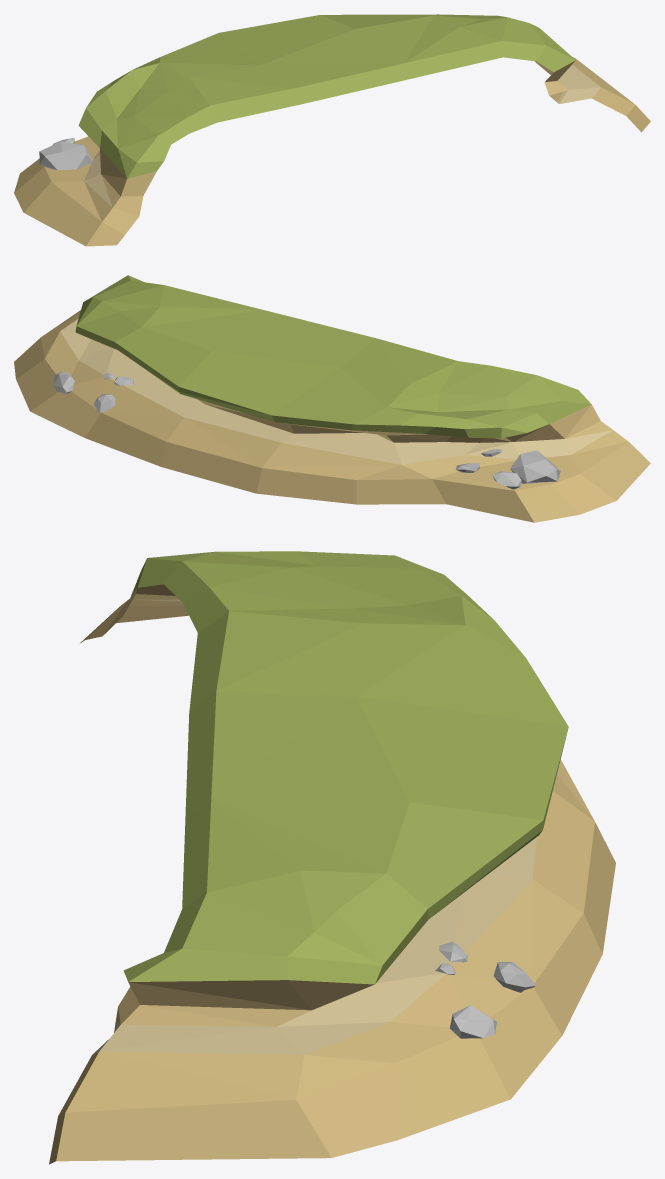
The model's file is EA03_Environment_RiverStraight_02b.glb.
The picture shows the model from 3 angles, top to bottom: view 1: azimuth 30°, elevation 25°; view 2: azimuth 150°, elevation 25°; view 3: azimuth 270°, elevation 25°; orthographic projection. The views are drawn at different scales.
Visible parts, largest first — view 1: EA03_Environment_RiverStraight_02b; view 2: EA03_Environment_RiverStraight_02b; view 3: EA03_Environment_RiverStraight_02b.
Boxes of the visible parts, x1=… form: EA03_Environment_RiverStraight_02b: x1=14, y1=14, x2=650, y2=246; EA03_Environment_RiverStraight_02b: x1=14, y1=275, x2=650, y2=522; EA03_Environment_RiverStraight_02b: x1=49, y1=551, x2=615, y2=1164.
Size of the model in its own units: 58.68 by 8.78 by 25.4.
1 material, 1 textured.
